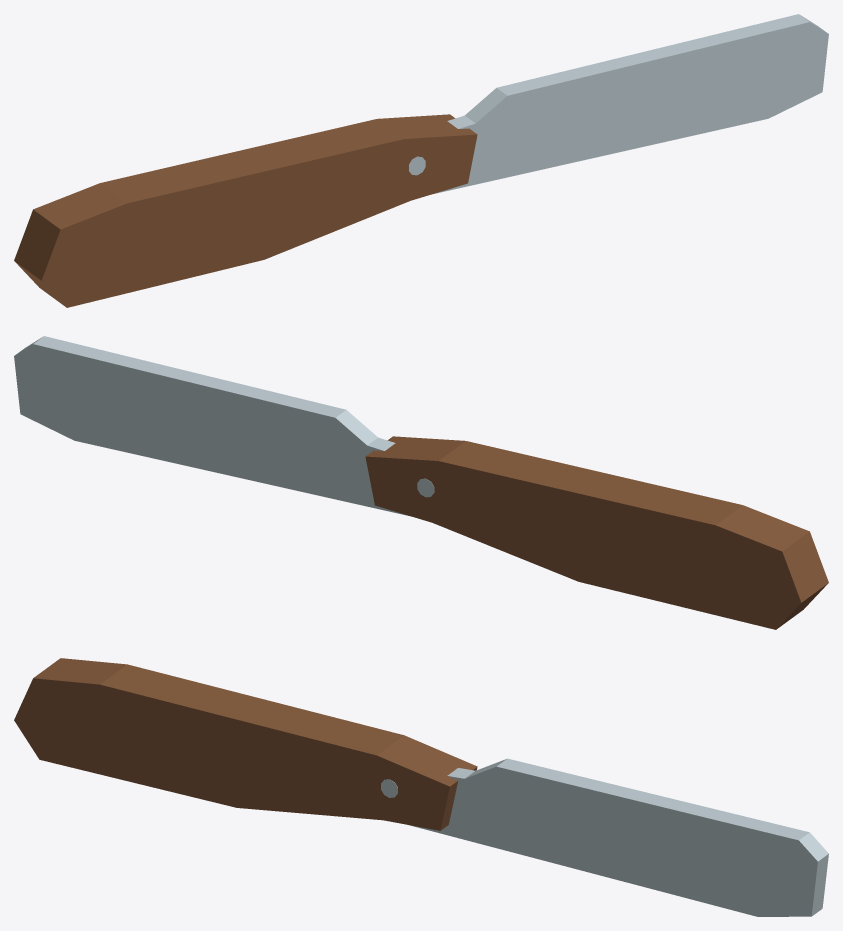
The model's file is straight-razor.glb.
3 views of the same model, one above another, from view 1: azimuth 30°, elevation 25°; view 2: azimuth 150°, elevation 25°; view 3: azimuth 330°, elevation 25° (orthographic).
Visible parts, largest first — view 1: wood, steel; view 2: wood, steel; view 3: wood, steel.
Boxes of the visible parts, <box> form: wood: <box>14,114,477,307</box>; steel: <box>434,14,828,193</box>; wood: <box>365,436,828,629</box>; steel: <box>14,336,408,515</box>; wood: <box>14,658,477,830</box>; steel: <box>410,758,828,916</box>.
Bounding box in the file's own units: 0.25 × 0.029 × 0.0152.
